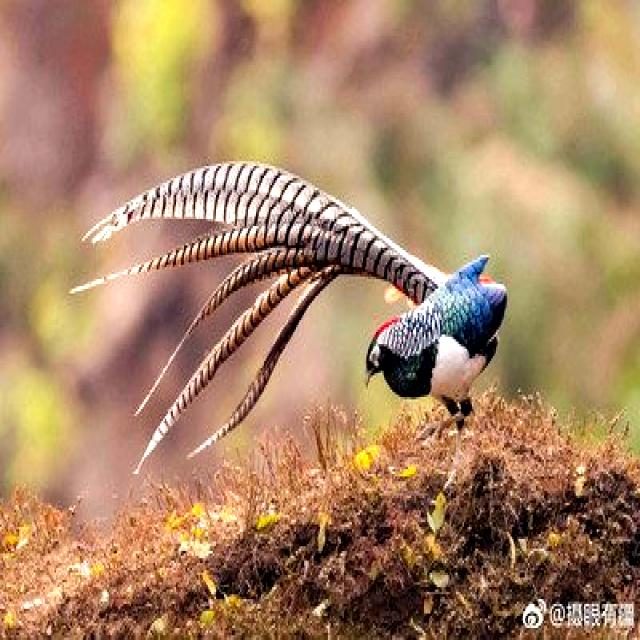Chrysolophus amherstiae: (70, 164, 443, 472)
